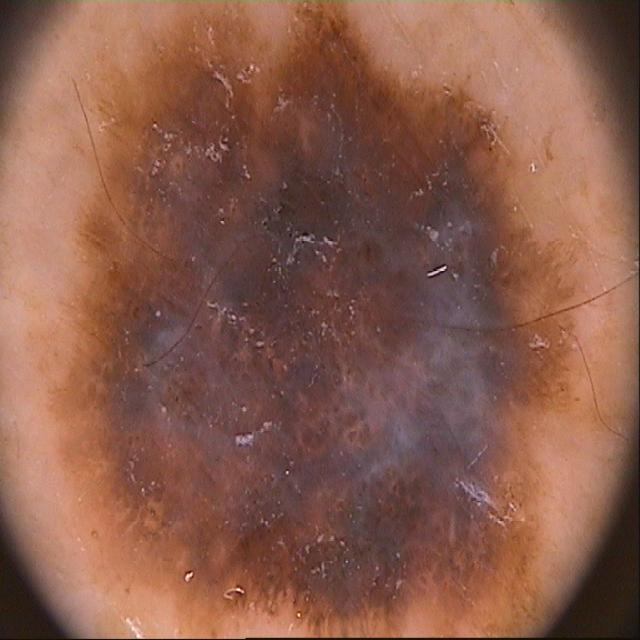Melanoma: (63, 9, 574, 640)
